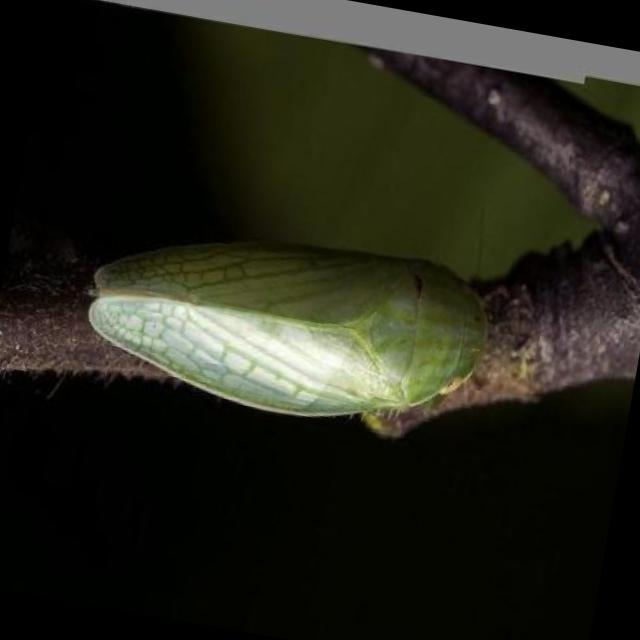green-leafhopper: (72, 193, 506, 448)
